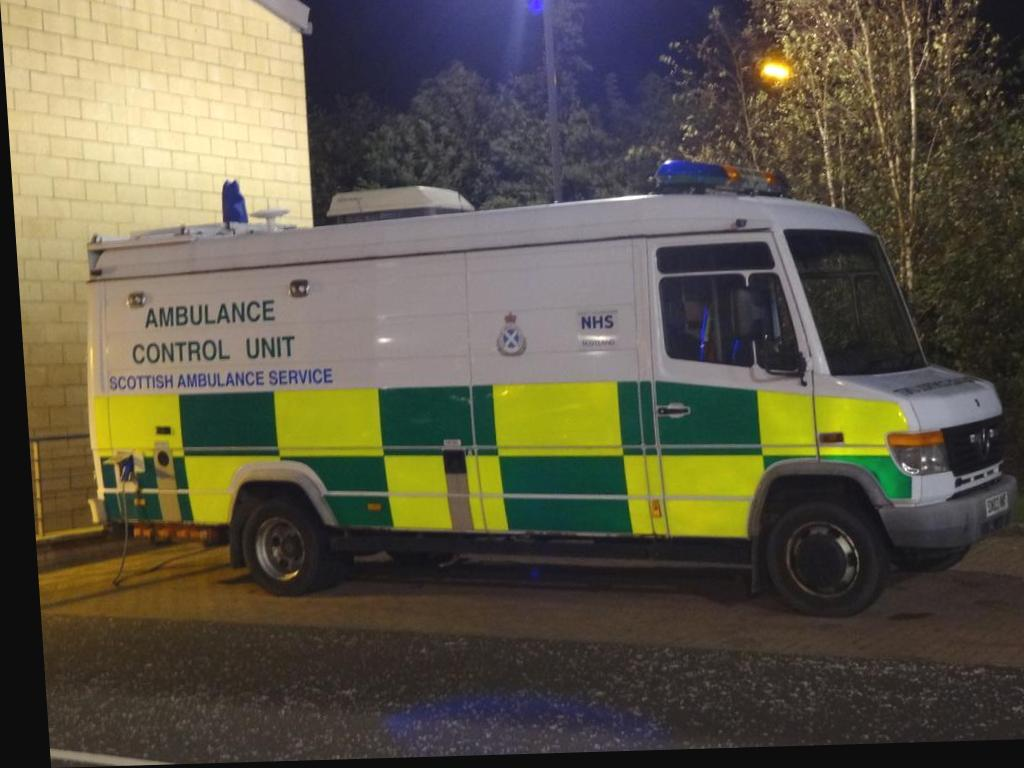License_Plate: (985, 491, 1013, 515)
